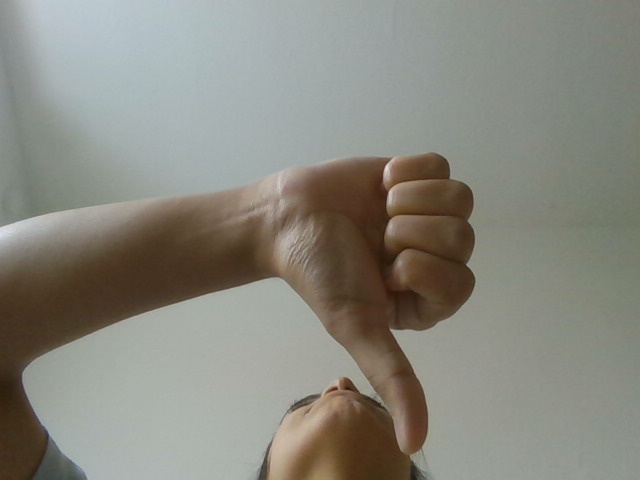thumbs_down: (250, 144, 472, 453)
